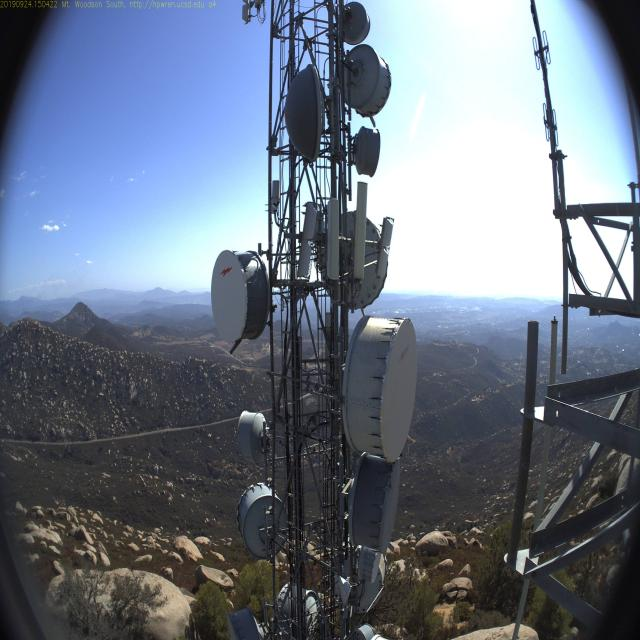smoke: (25, 288, 44, 309)
